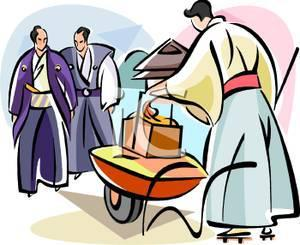person: (140, 1, 296, 243), (6, 23, 81, 200), (55, 25, 123, 182)
